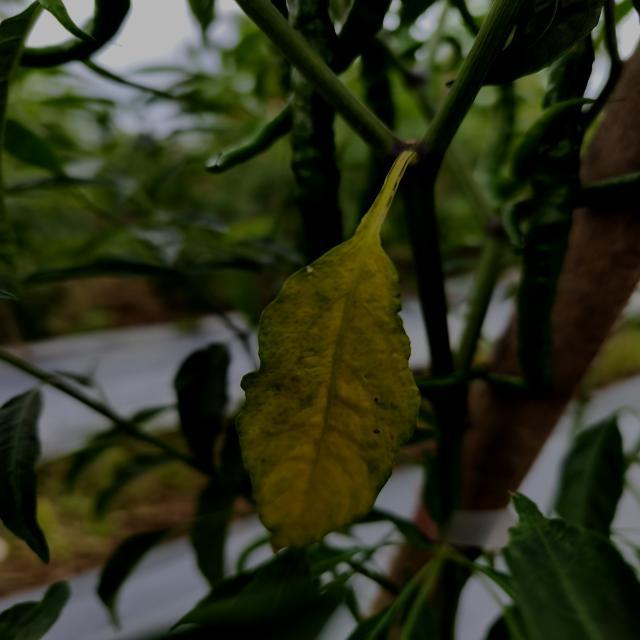Virus Kuning: (235, 234, 415, 554)
